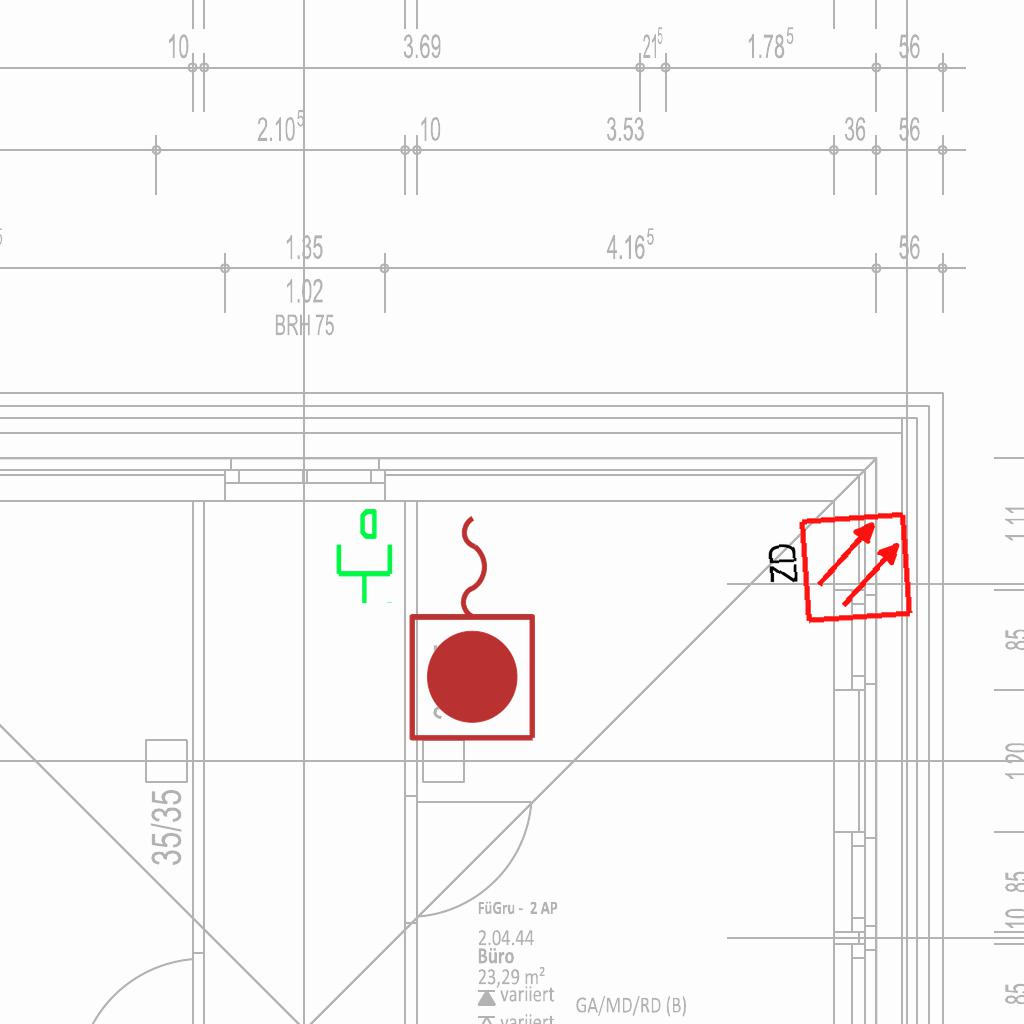Datenanschluss_einfach: (328, 506, 397, 606)
ZD_Melder_in_Zwischendecke_mit_Revisionsoeffnung_mind_40_x_40_cm: (758, 508, 916, 633)
Zugtaster: (402, 505, 546, 749)
